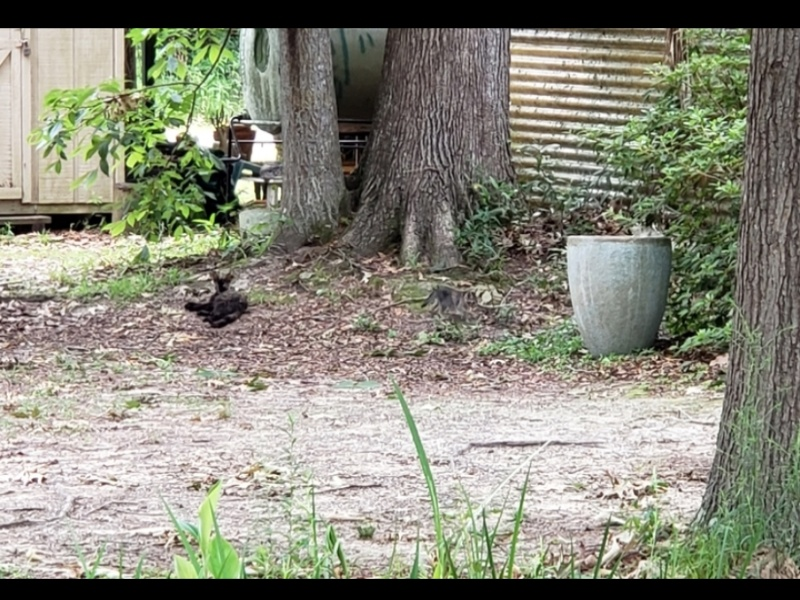cat: (183, 266, 251, 330)
